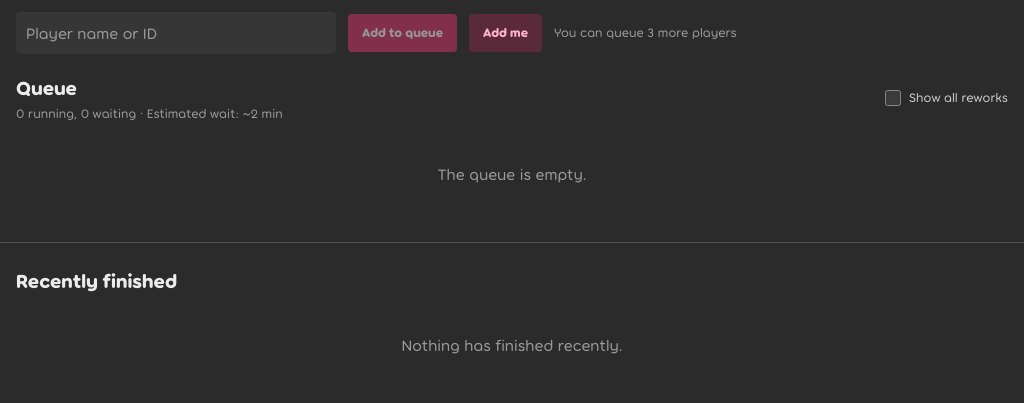
Test: QueueTab › the add bar › shows the server's reason when the player cannot be added
Type "Beta" into the field labelled "Player name or ID". click: (176, 33)
box: [26, 12, 326, 54]
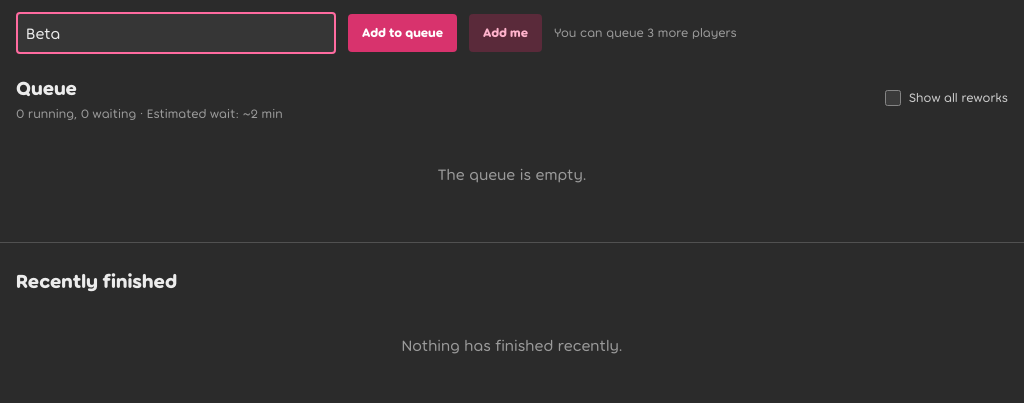
Click the button "Add to queue". click: (402, 33)
box: [348, 14, 457, 52]
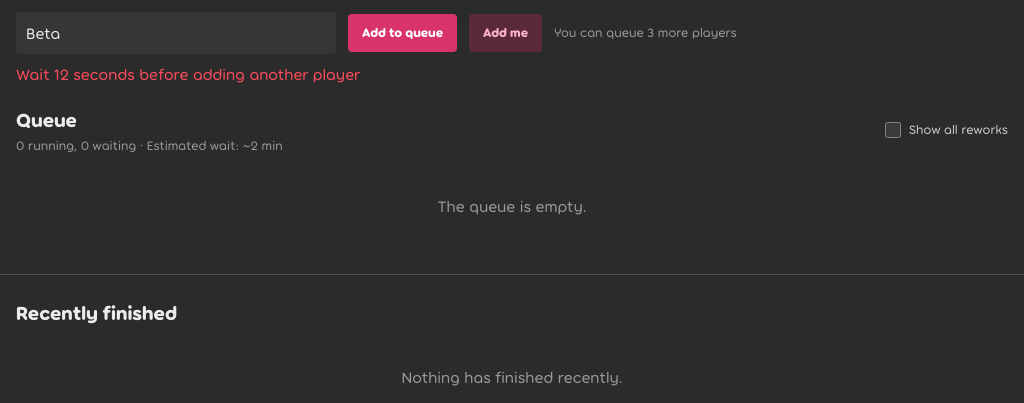
Expected: the text "Wait 12 seconds before adding another player" is shown, [16, 64, 360, 83]
